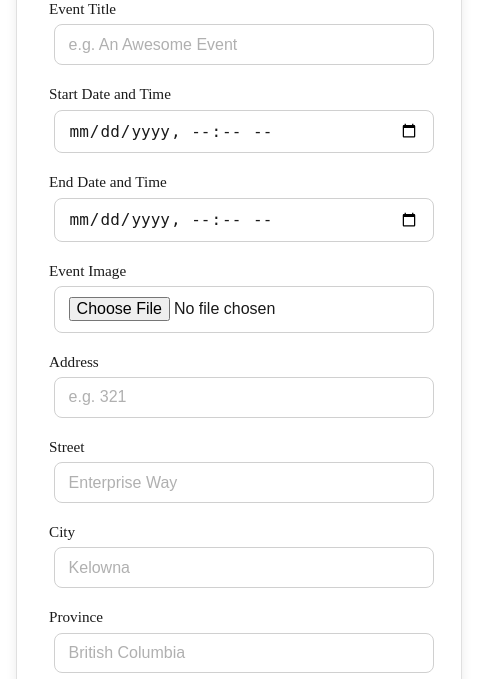
Test case: EventCreationForm Component › show error if event title is less than 3 characters
Step 1. Type "Hi" into the field with placeholder "e.g. An Awesome Event" → (244,45), box [54,24,434,65]
(page scrolled)
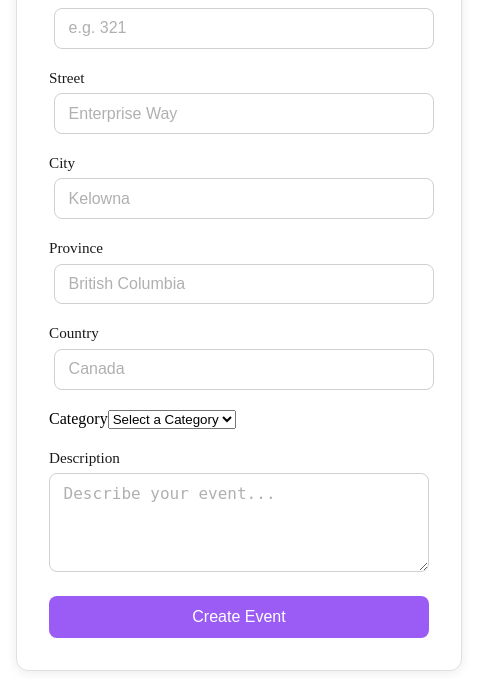
Step 2. Click the button "Create Event" → (239,617), box [49,596,429,638]
(page scrolled)
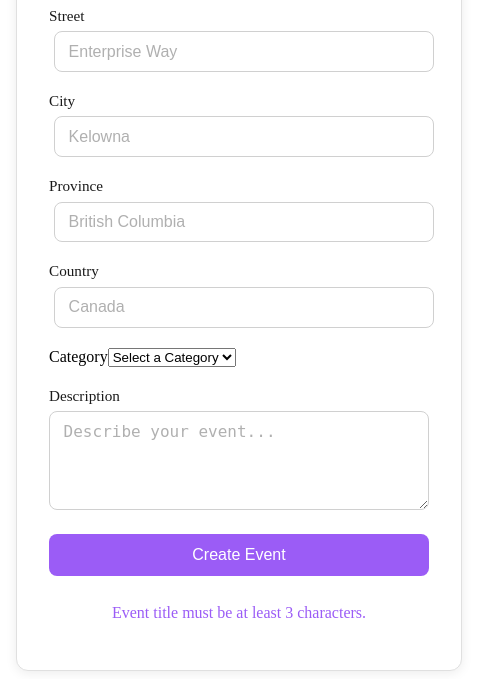
Expected: the text "Event title must be at least 3 characters." is shown, [112,604,366,621]
